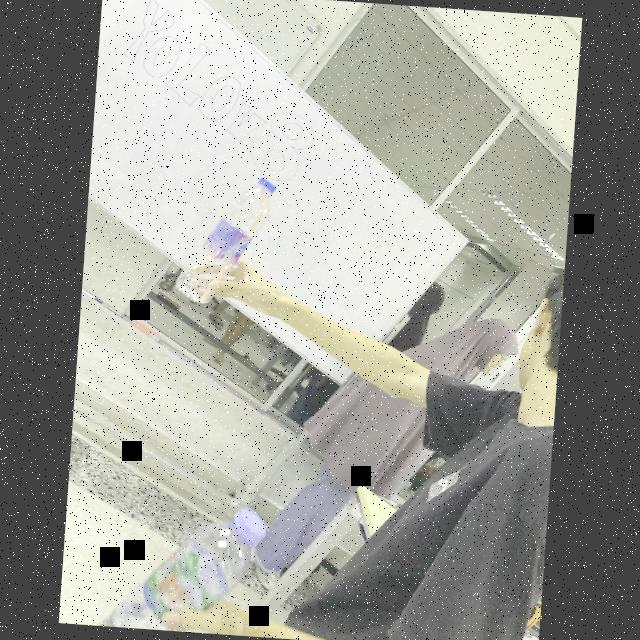plastic_bottle: (96, 498, 266, 636), (176, 170, 276, 308)
